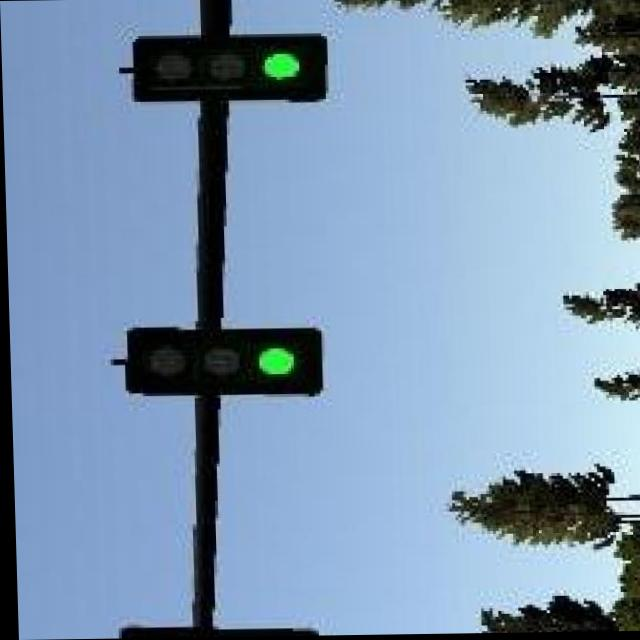green light: (120, 324, 318, 393), (129, 39, 324, 105)
